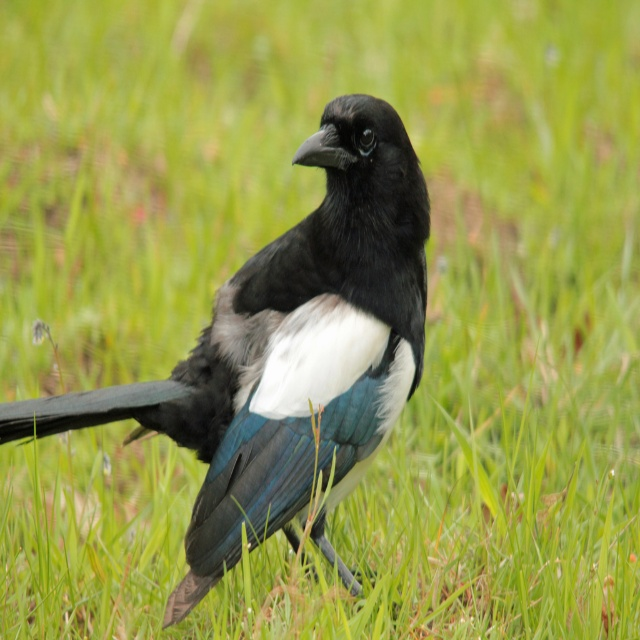Magpie: (0, 94, 431, 634)
